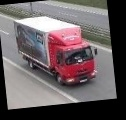truck: (13, 9, 101, 89)
